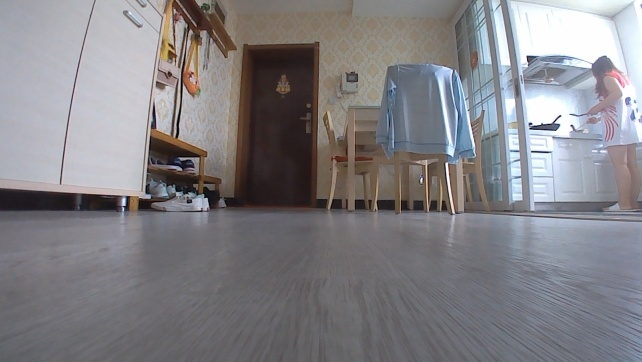cupboard: (507, 127, 641, 211)
dining_table: (318, 60, 493, 212)
door_anno: (238, 43, 320, 208)
shoe: (147, 190, 212, 214)
slipper: (600, 202, 641, 213)
